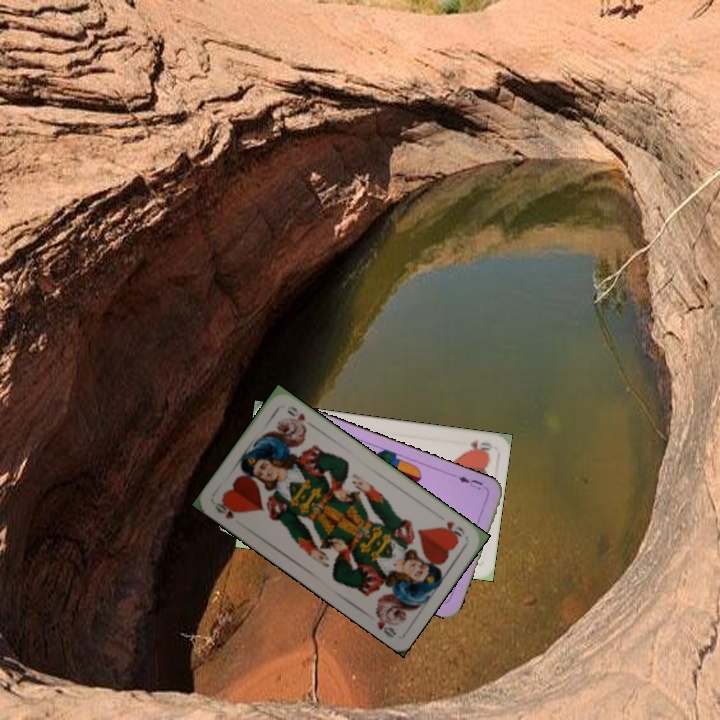EU: (454, 472, 489, 493)
HO: (210, 497, 242, 522), (436, 517, 468, 541), (466, 435, 495, 454)
